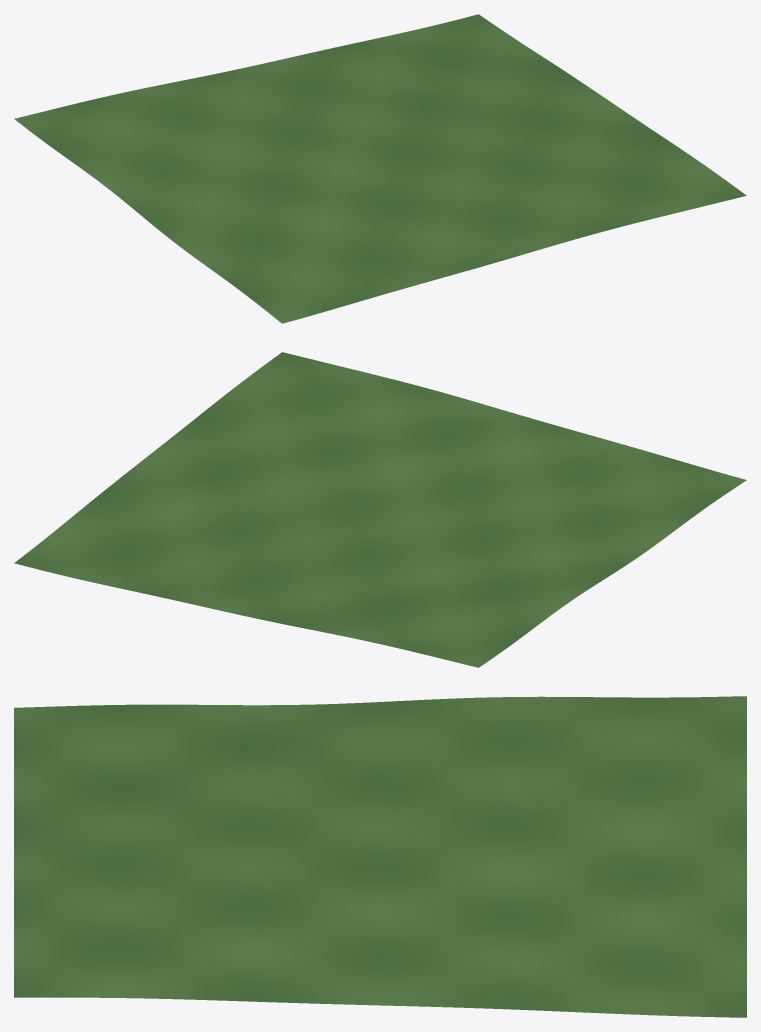
Rendered from chunk_5_5.glb.
The picture shows the model from 3 angles, top to bottom: view 1: azimuth 30°, elevation 25°; view 2: azimuth 150°, elevation 25°; view 3: azimuth 270°, elevation 25°; orthographic projection. The views are drawn at different scales.
Bounding box in the file's own units: 512 × 16.98 × 512.
